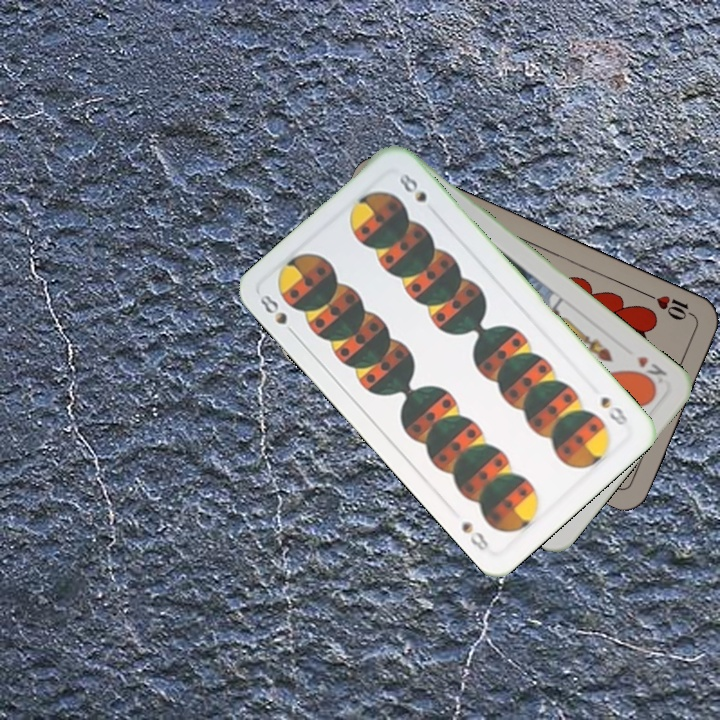H10: (642, 289, 699, 323)
HK: (629, 352, 671, 390)
S8: (256, 290, 300, 340), (596, 392, 631, 428)
